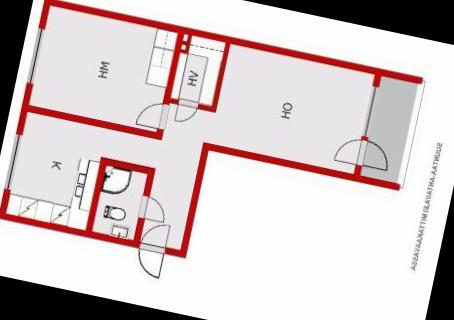door: (354, 137, 394, 174), (130, 242, 168, 280), (332, 133, 368, 169), (134, 98, 172, 132), (137, 218, 172, 254), (135, 193, 170, 224), (171, 97, 200, 127)
window: (23, 22, 48, 88), (2, 128, 25, 194)
